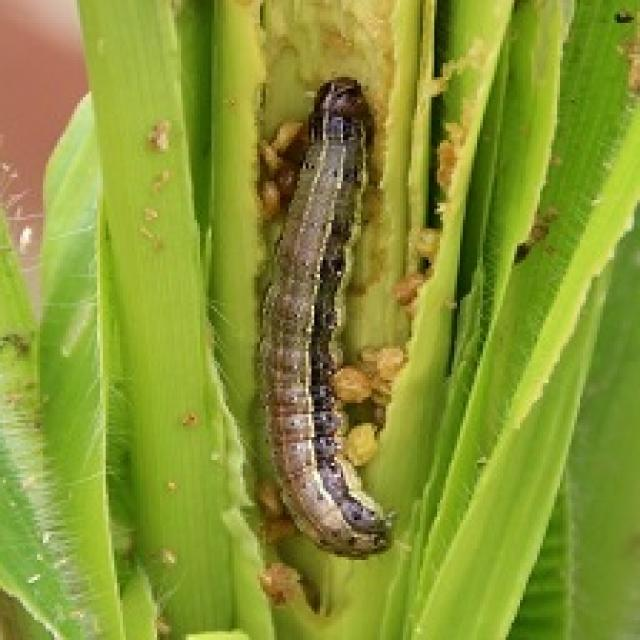Fall-armyworm: (259, 76, 400, 570)
